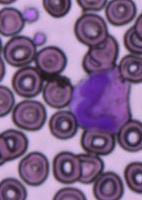E: (69, 68, 130, 134)
